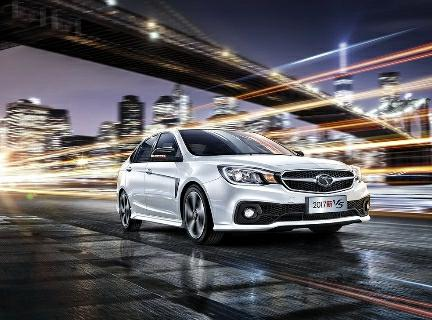car: (96, 120, 377, 251)
